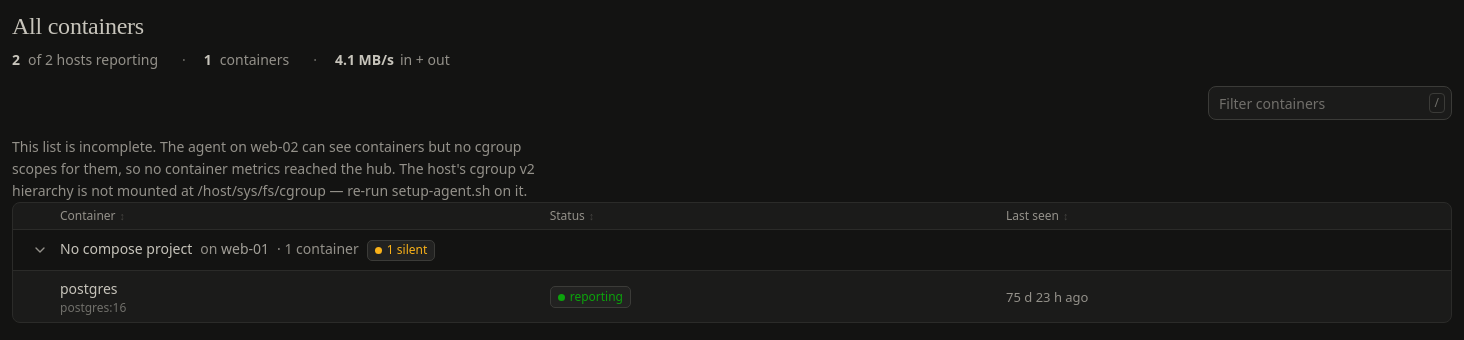
it: FleetPage, the container filter and the capability note › does not blame a host for a search that matched nothing
Type "zzz" into the search field with placeholder "Filter containers" at x=1330, y=104, box [1208,86,1452,120]
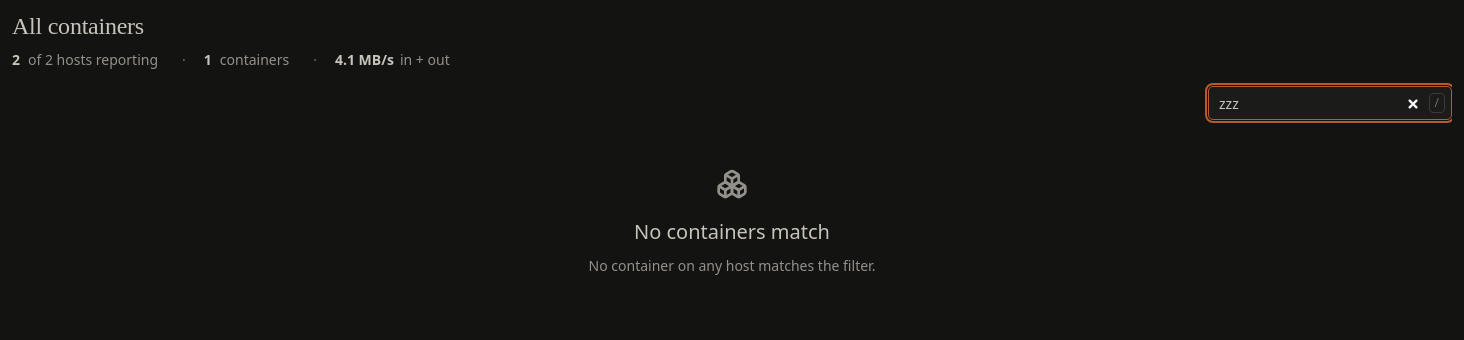
expect the table is gone: met
expect the text "setup-agent.sh" is gone: met
